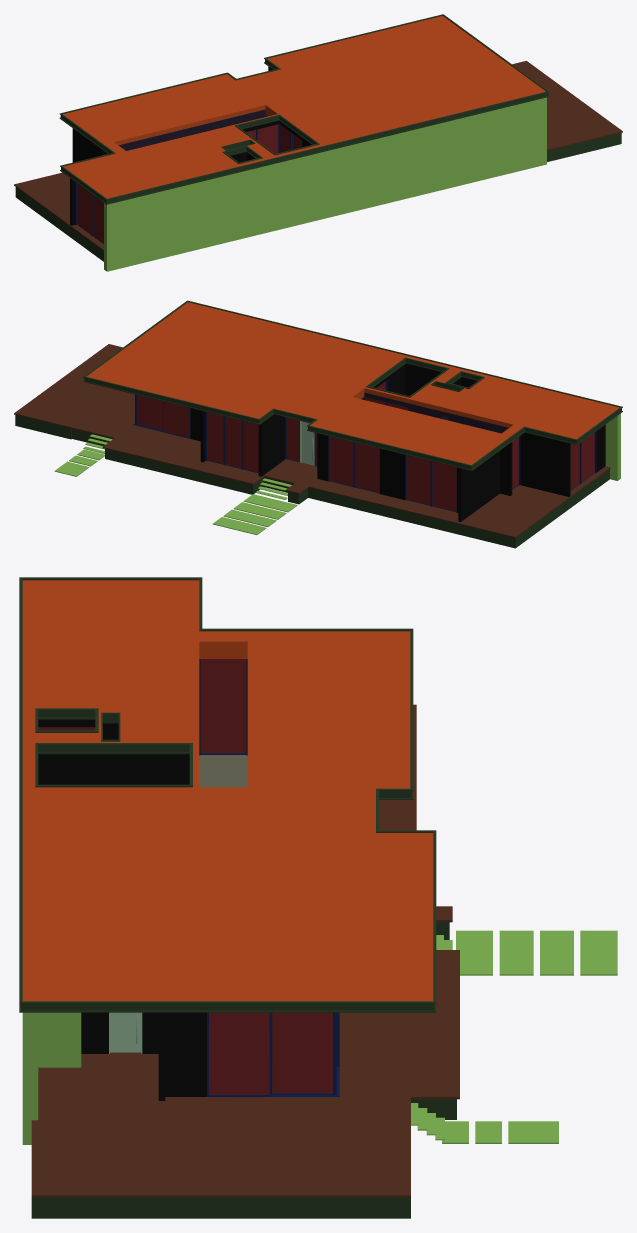
The model's file is House_V5.fbx.
The picture shows the model from 3 angles, top to bottom: view 1: azimuth 30°, elevation 25°; view 2: azimuth 150°, elevation 25°; view 3: azimuth 270°, elevation 25°; orthographic projection. The views are drawn at different scales.
Parts seen in each view (by area): view 1: Roof, Wall_Garden, Border, Floor_Exterior, Window_Glass, Floor_Border, Wall_Exterior, Wall_Interior, Window_Frame; view 2: Roof, Floor_Exterior, Wall_Exterior, Window_Glass, Floor_Border, Border, Floor_Steps, Window_Frame, Wall_Interior, Wall_Garden, Door_Wing_A; view 3: Roof, Floor_Exterior, Window_Glass, Border, Wall_Exterior, Floor_Steps, Floor_Border, Wall_Garden, Window_Frame, Floor_Interior, Door_Wing_B.
Part boxes in pixels (box(x1,y1,x2,y2)): Roof: box(63, 16, 545, 198); Wall_Garden: box(104, 97, 546, 271); Border: box(59, 14, 549, 204); Floor_Exterior: box(14, 61, 622, 250); Window_Glass: box(77, 124, 301, 242); Floor_Border: box(15, 133, 621, 261); Wall_Exterior: box(70, 66, 311, 225); Wall_Interior: box(119, 109, 267, 150); Window_Frame: box(76, 124, 302, 243); Roof: box(86, 302, 619, 464); Floor_Exterior: box(14, 344, 610, 537); Wall_Exterior: box(190, 363, 605, 521); Window_Glass: box(137, 381, 594, 511); Floor_Border: box(15, 415, 609, 548); Border: box(83, 300, 622, 470); Floor_Steps: box(54, 434, 297, 534); Window_Frame: box(133, 380, 596, 512); Wall_Interior: box(361, 392, 508, 433); Wall_Garden: box(605, 413, 620, 480); Door_Wing_A: box(301, 421, 313, 465); Roof: box(22, 580, 433, 1001); Floor_Exterior: box(31, 704, 459, 1197); Window_Glass: box(38, 659, 332, 1094); Border: box(19, 577, 436, 1012); Wall_Exterior: box(38, 719, 206, 1100); Floor_Steps: box(411, 930, 617, 1143); Floor_Border: box(31, 922, 456, 1218); Wall_Garden: box(22, 1012, 81, 1144); Window_Frame: box(38, 659, 339, 1096); Floor_Interior: box(110, 755, 247, 1052); Door_Wing_B: box(110, 1012, 141, 1052).
Bounding box in the file's own units: 1466 × 197 × 743.
